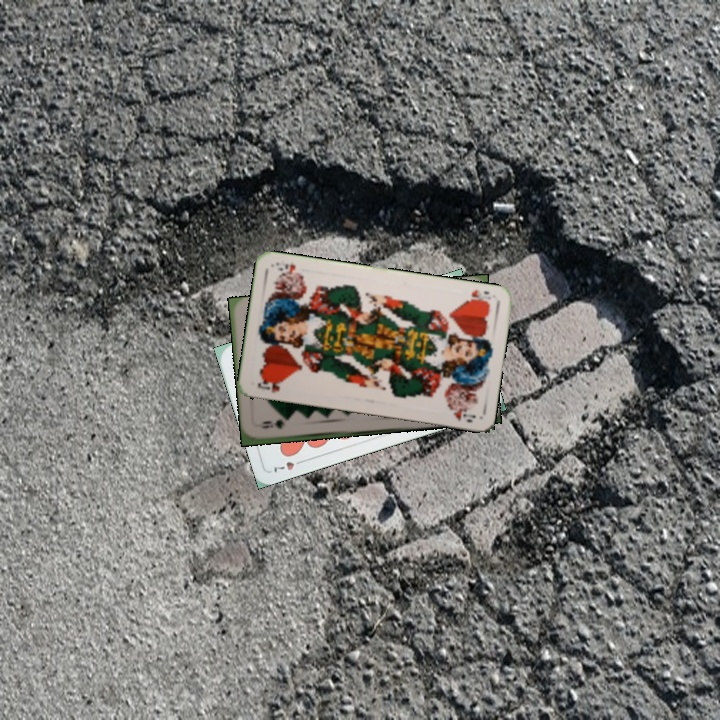G9: (258, 418, 286, 431)
H7: (270, 456, 308, 475)
HO: (462, 285, 493, 307), (254, 375, 286, 395)
